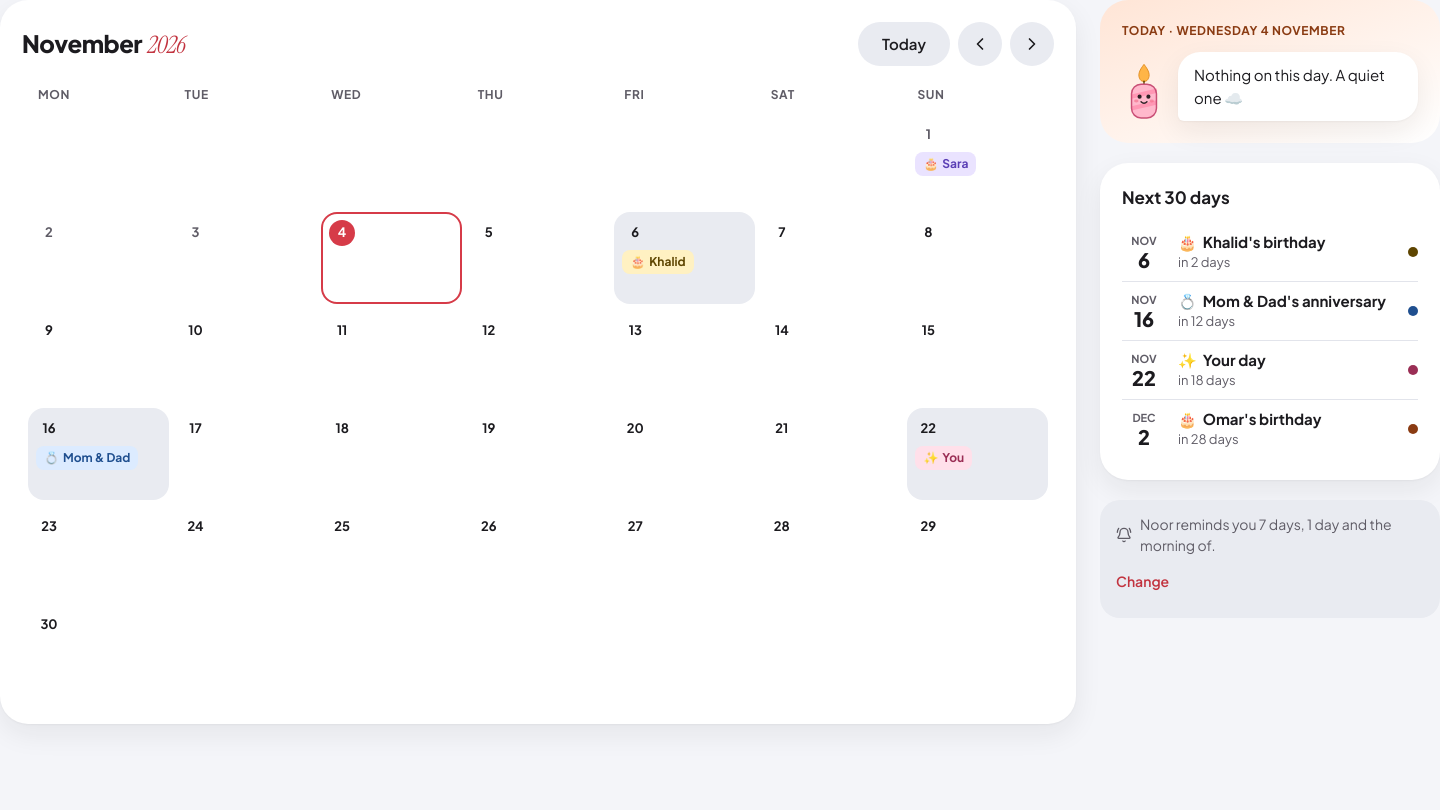
Test: Calendar › your day links to Celebrate Me
Click the cell named "Sunday 22 November" at [978, 454], box [907,408,1048,500]
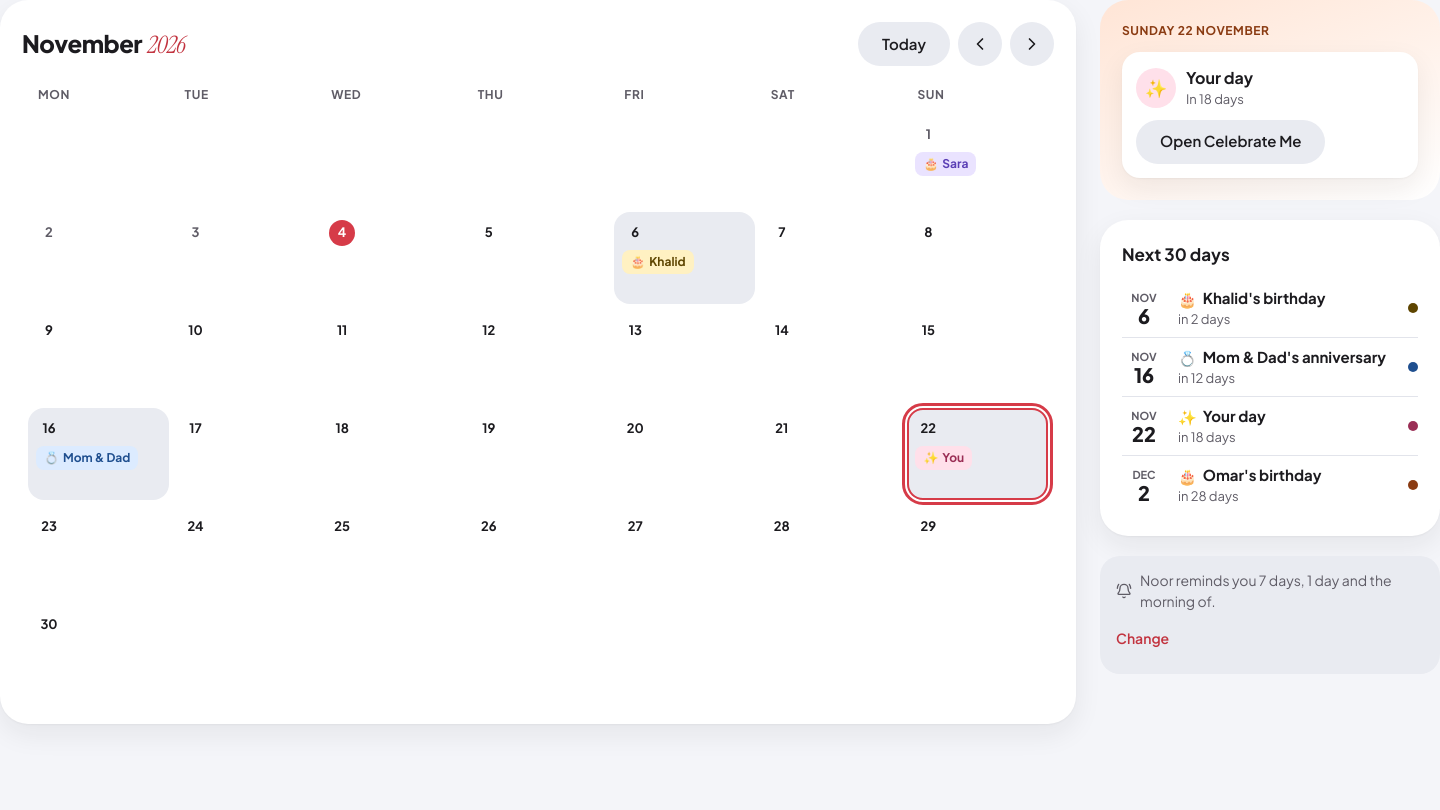
expect the text "Your day" is shown: met, box [1186,66,1253,90]
